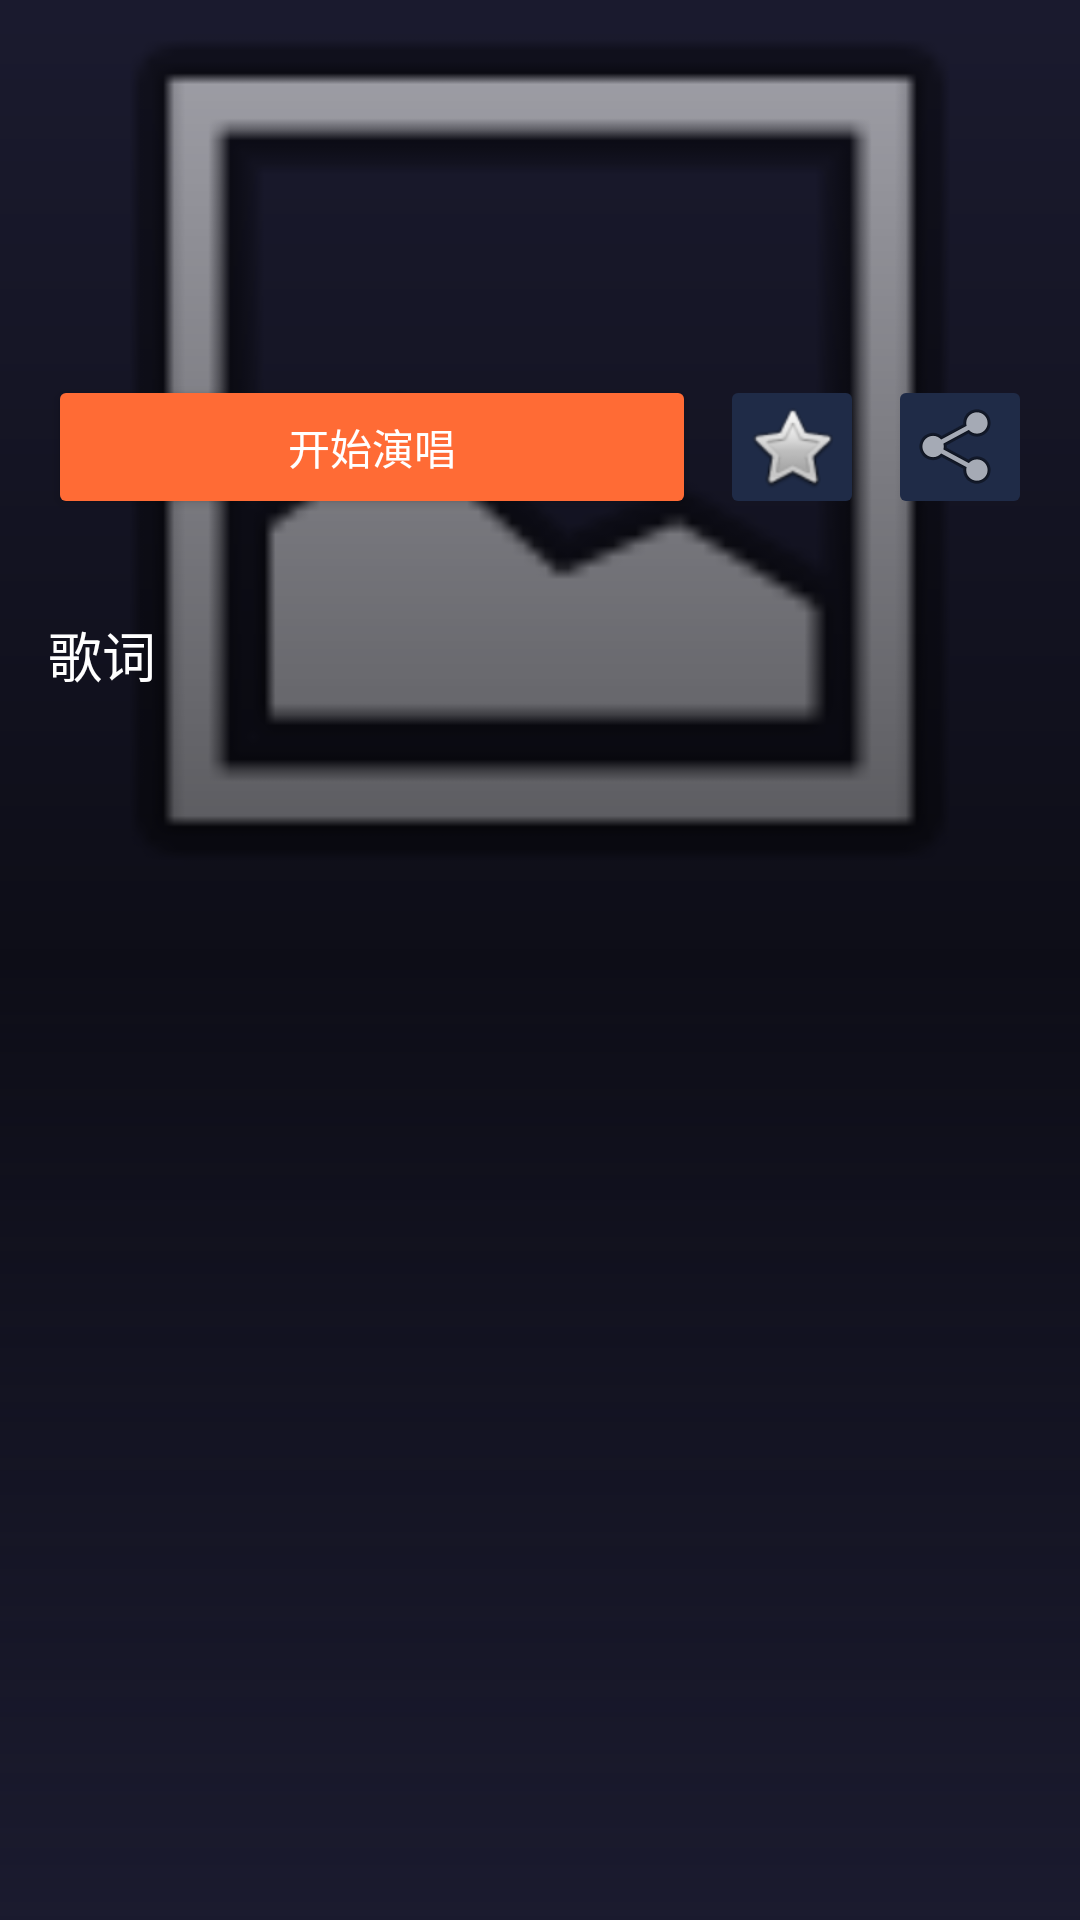

Screen size 1080w x 1920h. Icon name, then its center in pixels as point (x, y):
share: point (954, 447)
star: point (792, 447)
